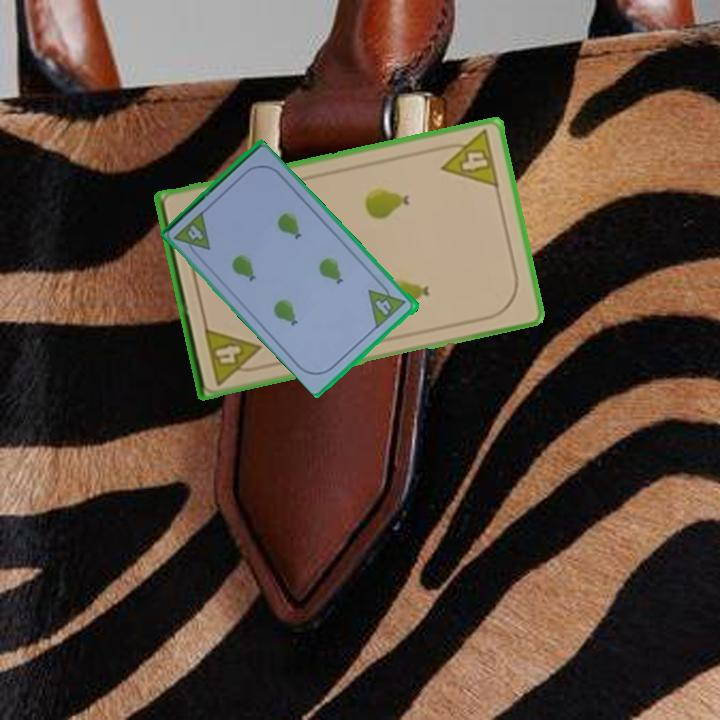4p: (434, 126, 502, 191), (200, 323, 267, 388), (365, 278, 409, 331), (171, 208, 214, 262)
